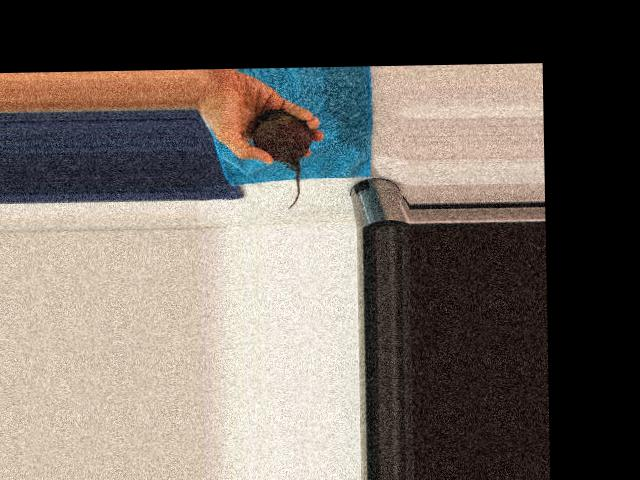beet: (252, 108, 314, 209)
